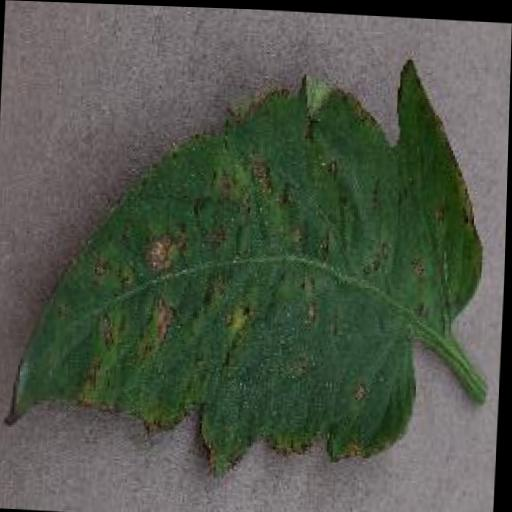Bacterial Spot: (0, 29, 498, 491)
